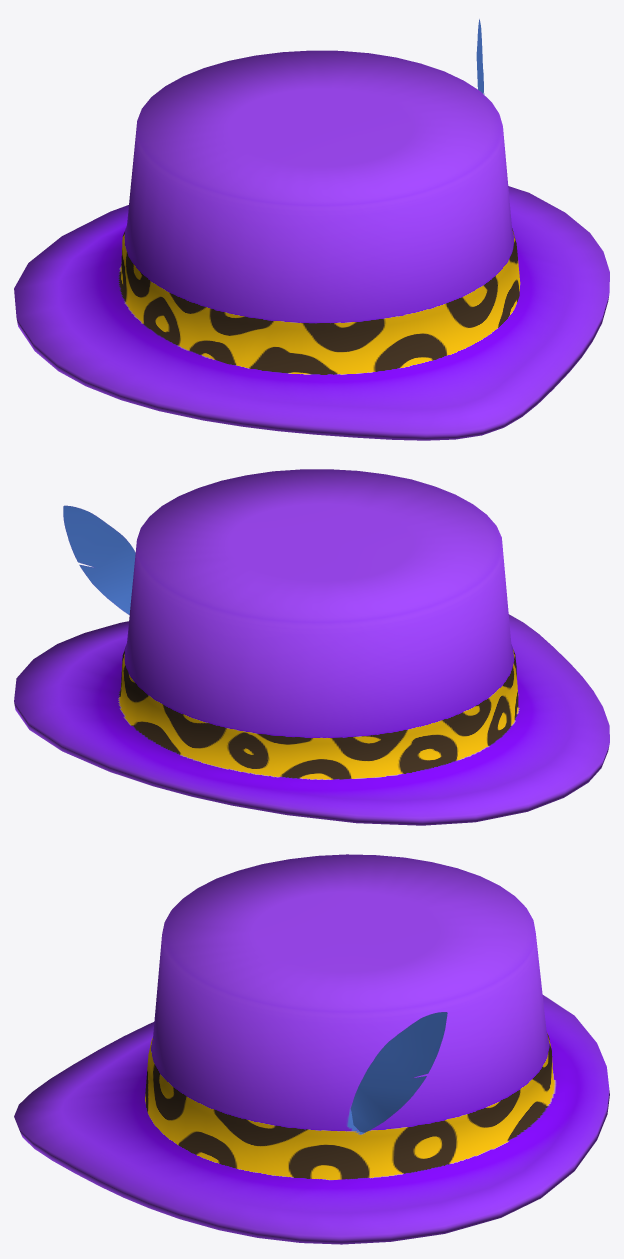
Rendered from PIimp hat.fbx.
3 renders of one model, top to bottom at view 1: azimuth 30°, elevation 25°; view 2: azimuth 150°, elevation 25°; view 3: azimuth 270°, elevation 25°, orthographic. The views are drawn at different scales.
Visible parts, largest first — view 1: PIimp hat; view 2: PIimp hat; view 3: PIimp hat.
Part boxes in pixels (x1=…): PIimp hat: x1=14, y1=19, x2=609, y2=440; PIimp hat: x1=14, y1=469, x2=609, y2=825; PIimp hat: x1=14, y1=854, x2=609, y2=1244.
Bounding box in the file's own units: 42.87 × 17.04 × 40.66.
